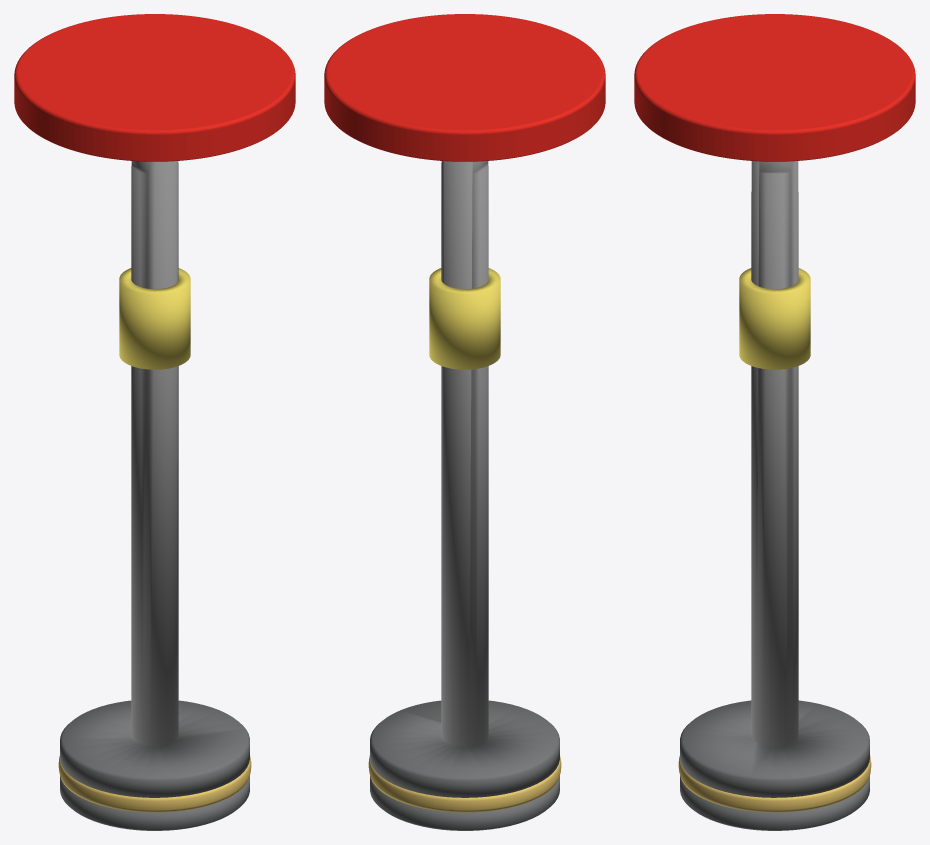
The picture shows the model from 3 angles, left to right: view 1: azimuth 30°, elevation 25°; view 2: azimuth 150°, elevation 25°; view 3: azimuth 270°, elevation 25°; orthographic projection.
Visible parts, largest first — view 1: 01-柱体, 02-直杆, 04-底部, 03-上部装饰, 05-圆环; view 2: 01-柱体, 02-直杆, 04-底部, 03-上部装饰, 05-圆环; view 3: 01-柱体, 02-直杆, 04-底部, 03-上部装饰, 05-圆环.
Part boxes in pixels (x1,y1,x2,y2): 01-柱体: [14, 14, 295, 161]; 02-直杆: [131, 161, 178, 746]; 04-底部: [60, 700, 249, 830]; 03-上部装饰: [119, 268, 190, 369]; 05-圆环: [58, 756, 251, 812]; 01-柱体: [324, 14, 605, 161]; 02-直杆: [441, 161, 488, 746]; 04-底部: [370, 700, 559, 830]; 03-上部装饰: [429, 268, 500, 369]; 05-圆环: [368, 755, 561, 812]; 01-柱体: [634, 14, 915, 161]; 02-直杆: [751, 161, 798, 746]; 04-底部: [680, 700, 869, 830]; 03-上部装饰: [739, 268, 810, 369]; 05-圆环: [678, 755, 871, 812].
Size of the model in its own units: 7500 by 21180 by 7500.
